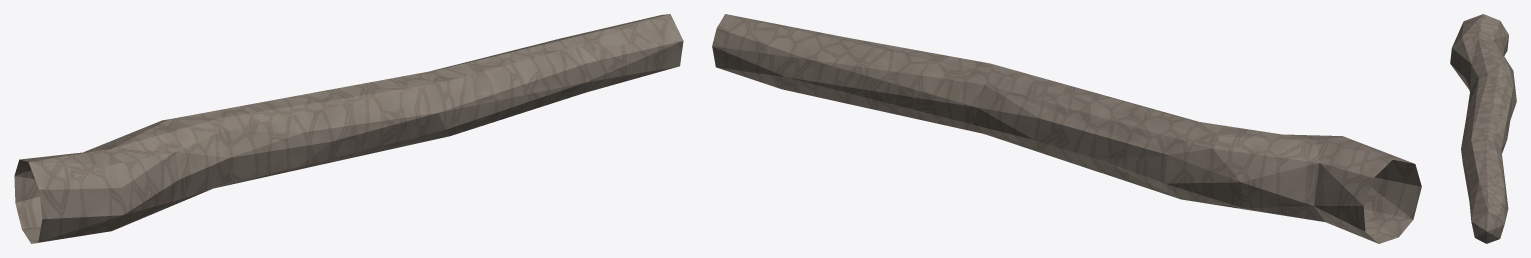
Rendered from tronco_caido.glb.
3 renders of one model, left to right at view 1: azimuth 30°, elevation 25°; view 2: azimuth 150°, elevation 25°; view 3: azimuth 270°, elevation 25°, orthographic. The views are drawn at different scales.
Visible parts, largest first — view 1: tronco_caido_medio; view 2: tronco_caido_medio; view 3: tronco_caido_medio.
Part boxes in pixels (x1,y1,x2,y2): tronco_caido_medio: (14, 14, 683, 243); tronco_caido_medio: (712, 14, 1421, 243); tronco_caido_medio: (1450, 14, 1516, 243).
Bounding box in the file's own units: 6.17 × 0.6969 × 0.8892.
1 material, 1 textured.
